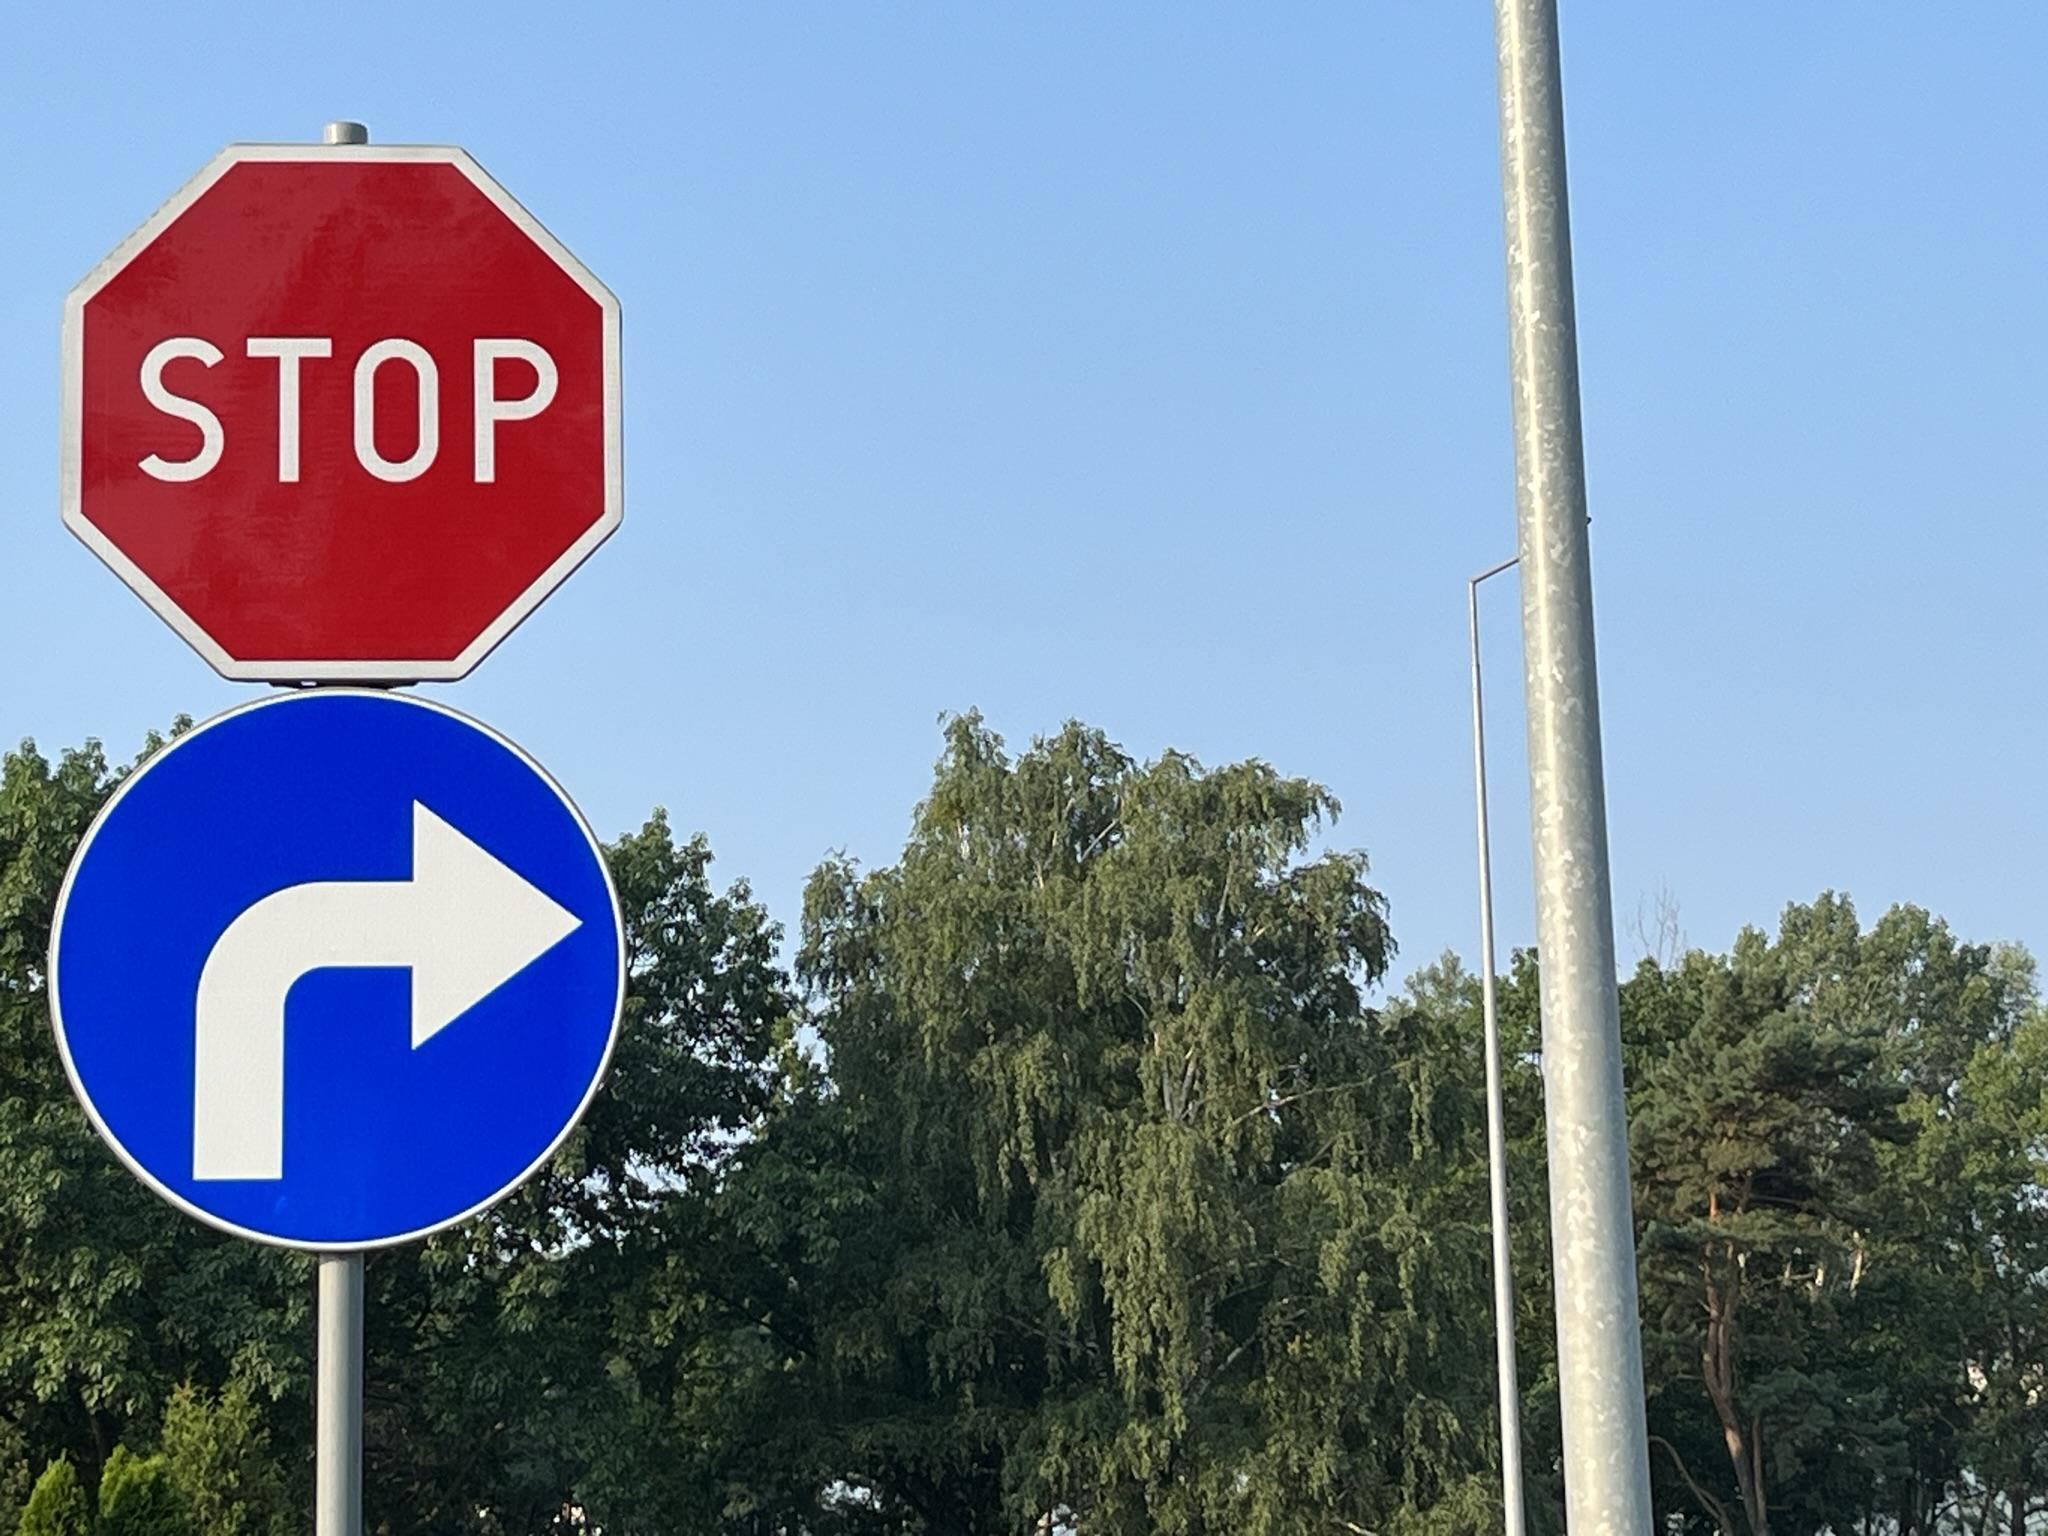mandatory: (44, 687, 632, 1254)
prohibitory: (56, 142, 626, 684)
